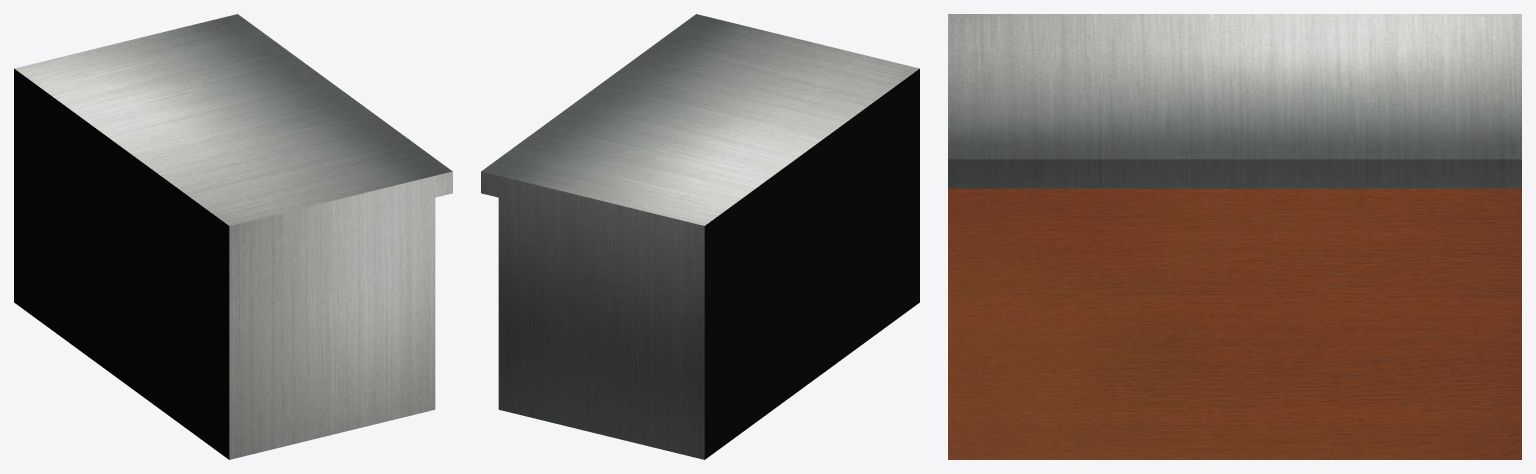
File: kittin000.obj
3 views of the same model, side by side, from view 1: azimuth 30°, elevation 25°; view 2: azimuth 150°, elevation 25°; view 3: azimuth 270°, elevation 25° (orthographic). The views are drawn at different scales.
Visible parts, largest first — view 1: Cube_Cube.001; view 2: Cube_Cube.001; view 3: Cube_Cube.001.
Part boxes in pixels (x1,y1,x2,y2): Cube_Cube.001: (14,14,452,459); Cube_Cube.001: (481,14,919,459); Cube_Cube.001: (948,14,1521,459).
Bounding box in the file's own units: 6 × 6 × 10.
Materials: 1 (1 with a texture image).
